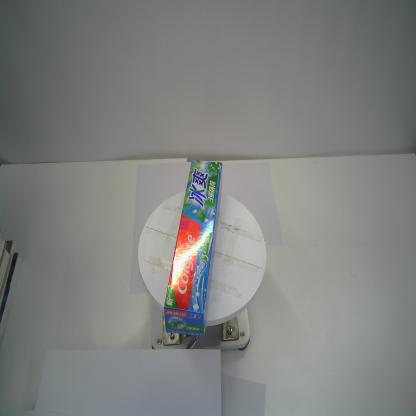Personal Hygiene: (162, 158, 224, 340)
